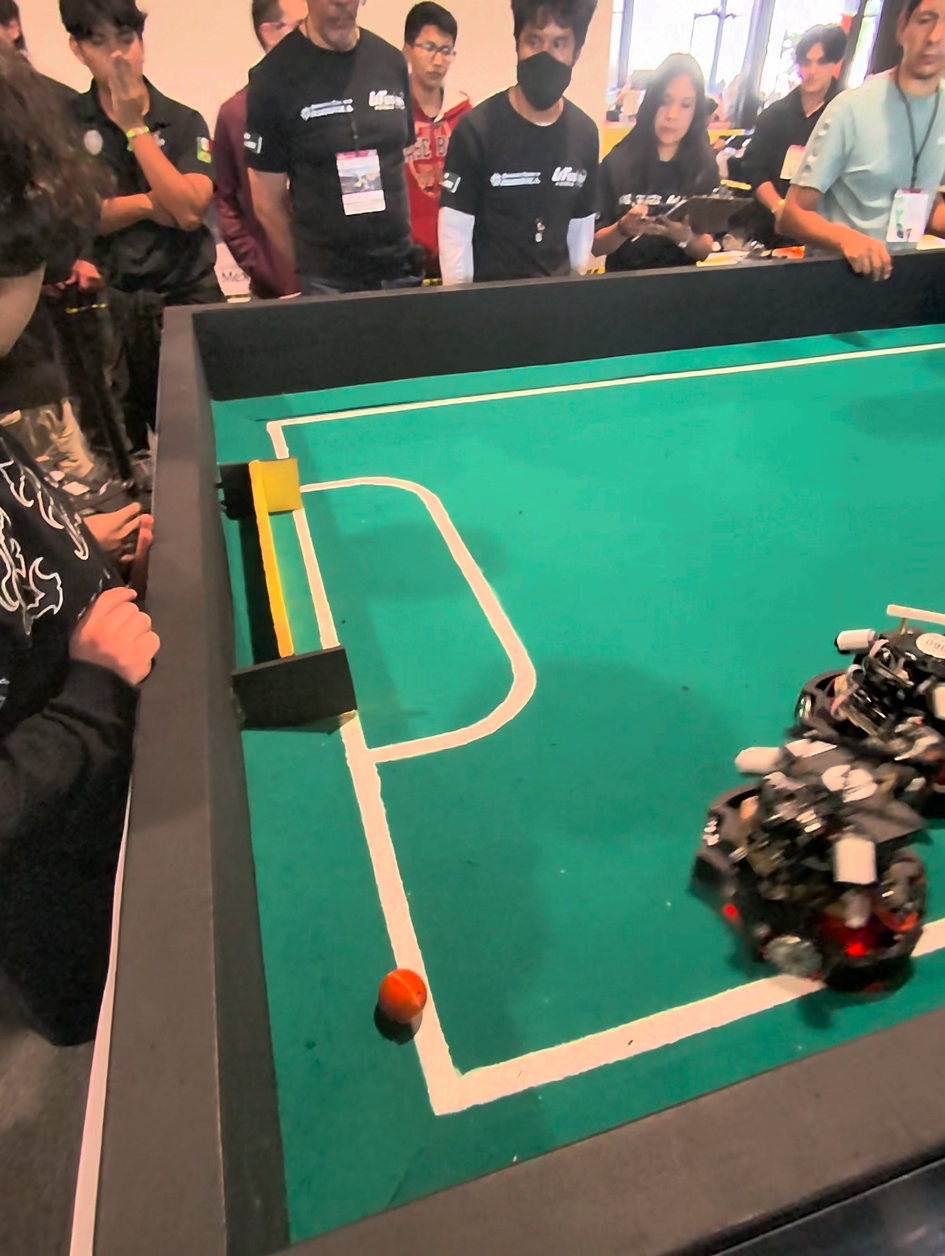Robot: (677, 711, 936, 1005), (786, 587, 945, 826)
pelota: (377, 970, 428, 1038)
